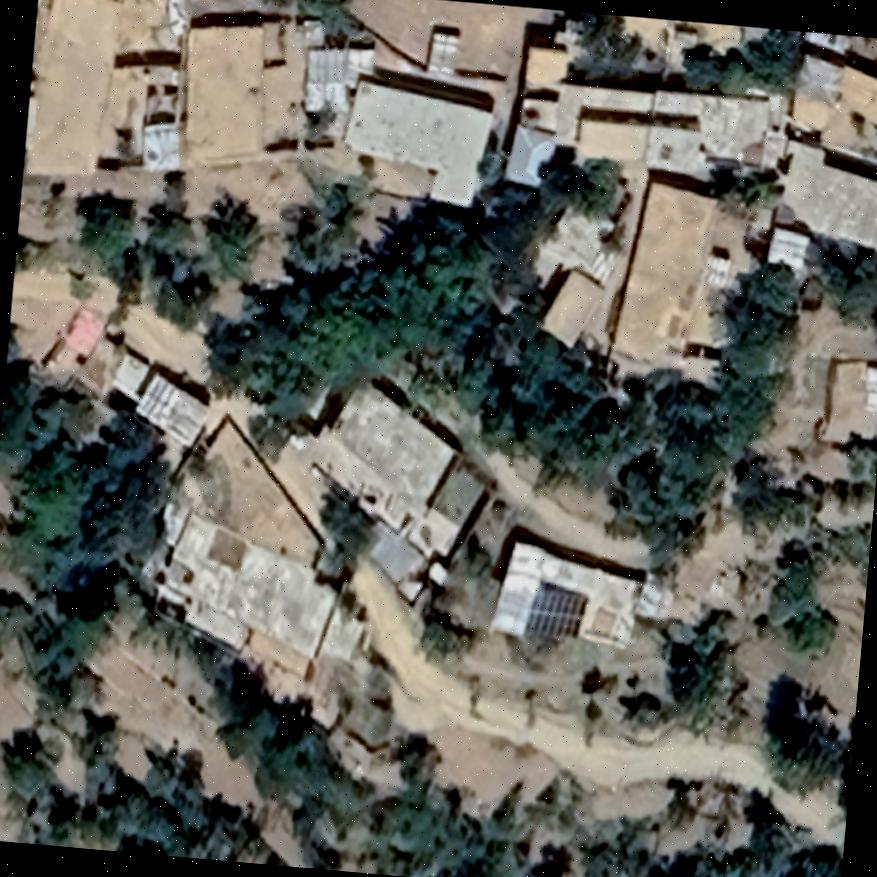Solarpanel: (518, 578, 589, 645)
